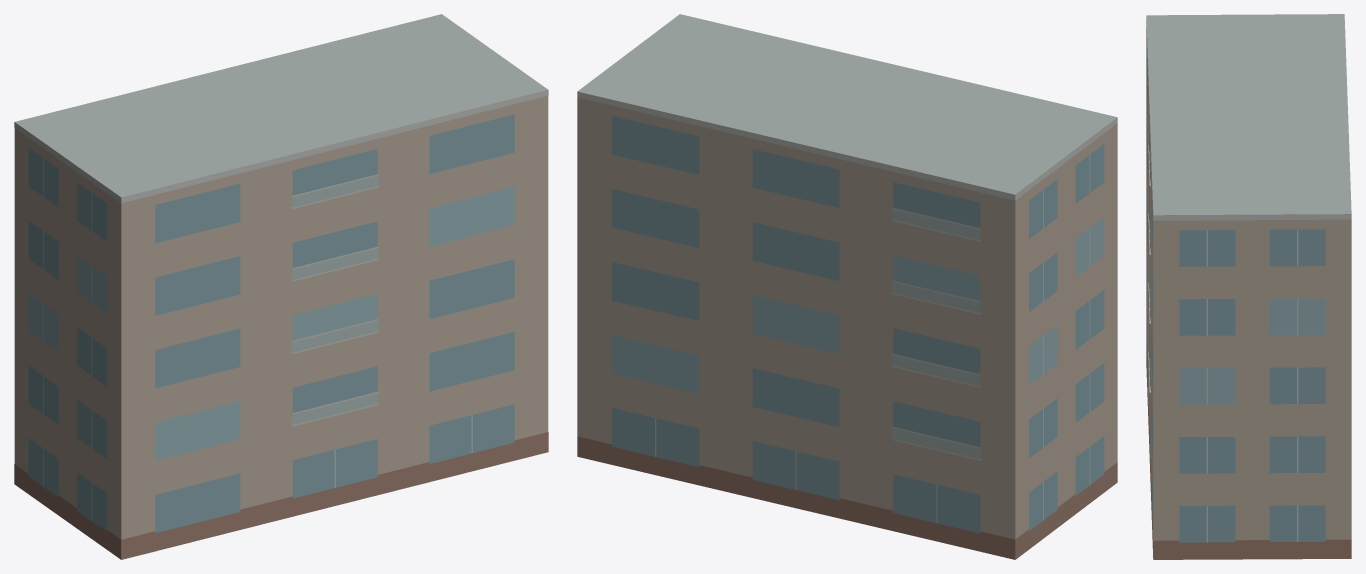
The model's file is survey-upis-32579445.glb.
The picture shows the model from 3 angles, left to right: view 1: azimuth 30°, elevation 25°; view 2: azimuth 150°, elevation 25°; view 3: azimuth 270°, elevation 25°; orthographic projection. The views are drawn at different scales.
Visible parts, largest first — view 1: survey-upis-32579445.tmp; view 2: survey-upis-32579445.tmp; view 3: survey-upis-32579445.tmp.
Part boxes in pixels (<box>): survey-upis-32579445.tmp: <box>14,14,548,559</box>; survey-upis-32579445.tmp: <box>577,14,1117,559</box>; survey-upis-32579445.tmp: <box>1146,14,1351,559</box>.
Size of the model in its own units: 19.04 by 15.2 by 8.22.
